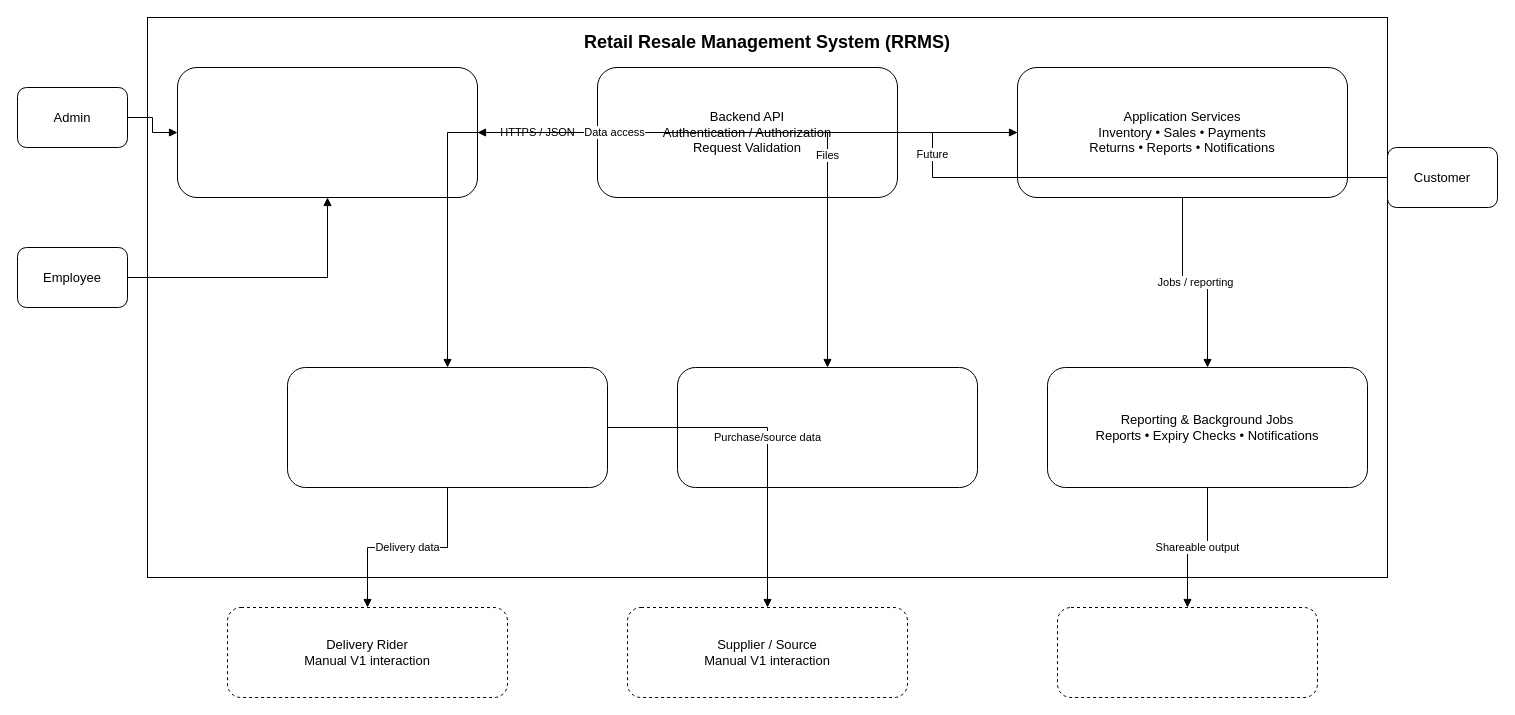
The diagram is 1515 pixels wide and 715 high, and some of its shapes have lost their labels. The centre of each missing label's shape, as x and y in pixels:
"File / Image Storage Images • Receipts • Generated files" belongs at point (827, 427).
"PostgreSQL Transactional source of truth" belongs at point (447, 427).
"Web Frontend Admin / Employee UI Future Customer Storefront" belongs at point (327, 132).
"WhatsApp External channel" belongs at point (1187, 652).
